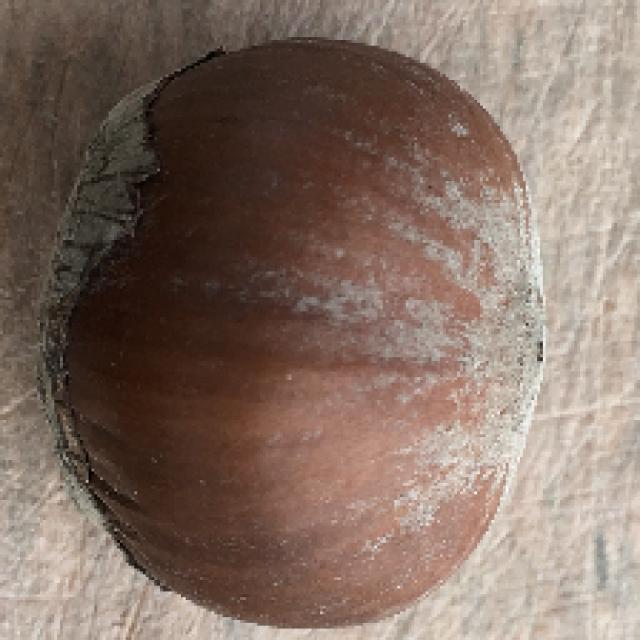damagedHazelnut: (38, 28, 566, 636)
